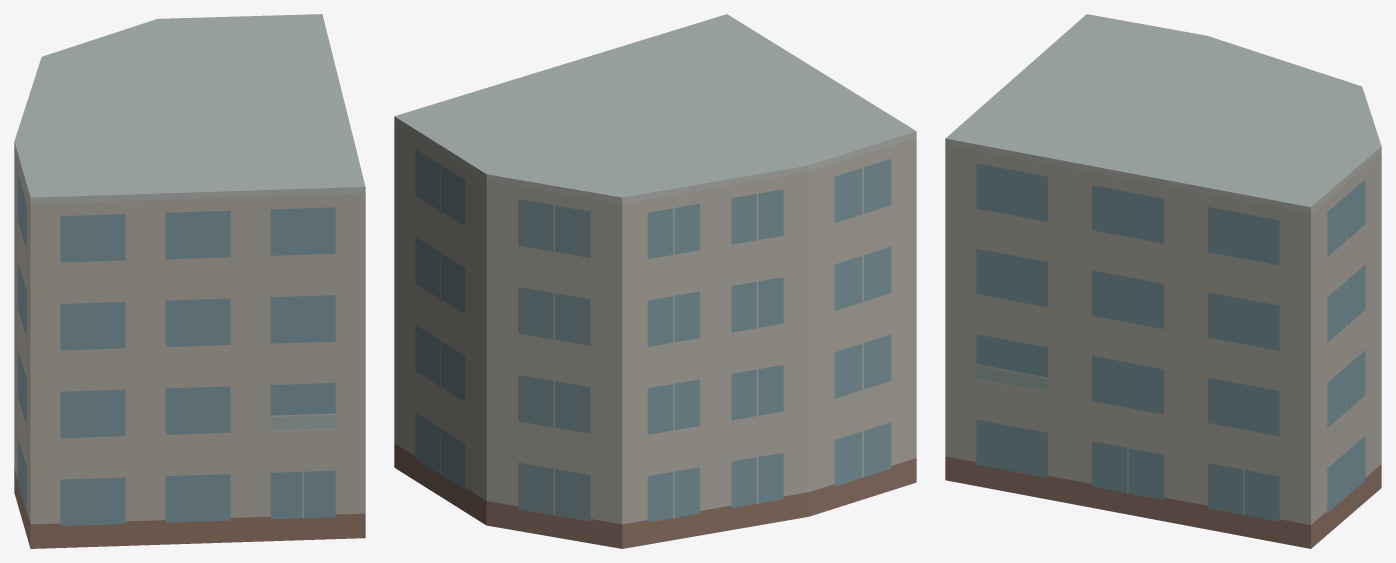
The model's file is survey-upis-32667448.glb.
The picture shows the model from 3 angles, left to right: view 1: azimuth 30°, elevation 25°; view 2: azimuth 150°, elevation 25°; view 3: azimuth 270°, elevation 25°; orthographic projection. The views are drawn at different scales.
Parts seen in each view (by area): view 1: survey-upis-32667448.tmp; view 2: survey-upis-32667448.tmp; view 3: survey-upis-32667448.tmp.
Boxes of the visible parts, <box> form: survey-upis-32667448.tmp: <box>14,14,365,548</box>; survey-upis-32667448.tmp: <box>394,14,916,548</box>; survey-upis-32667448.tmp: <box>945,14,1381,548</box>.
Bounding box in the file's own units: 16.26 × 13.4 × 15.52.
